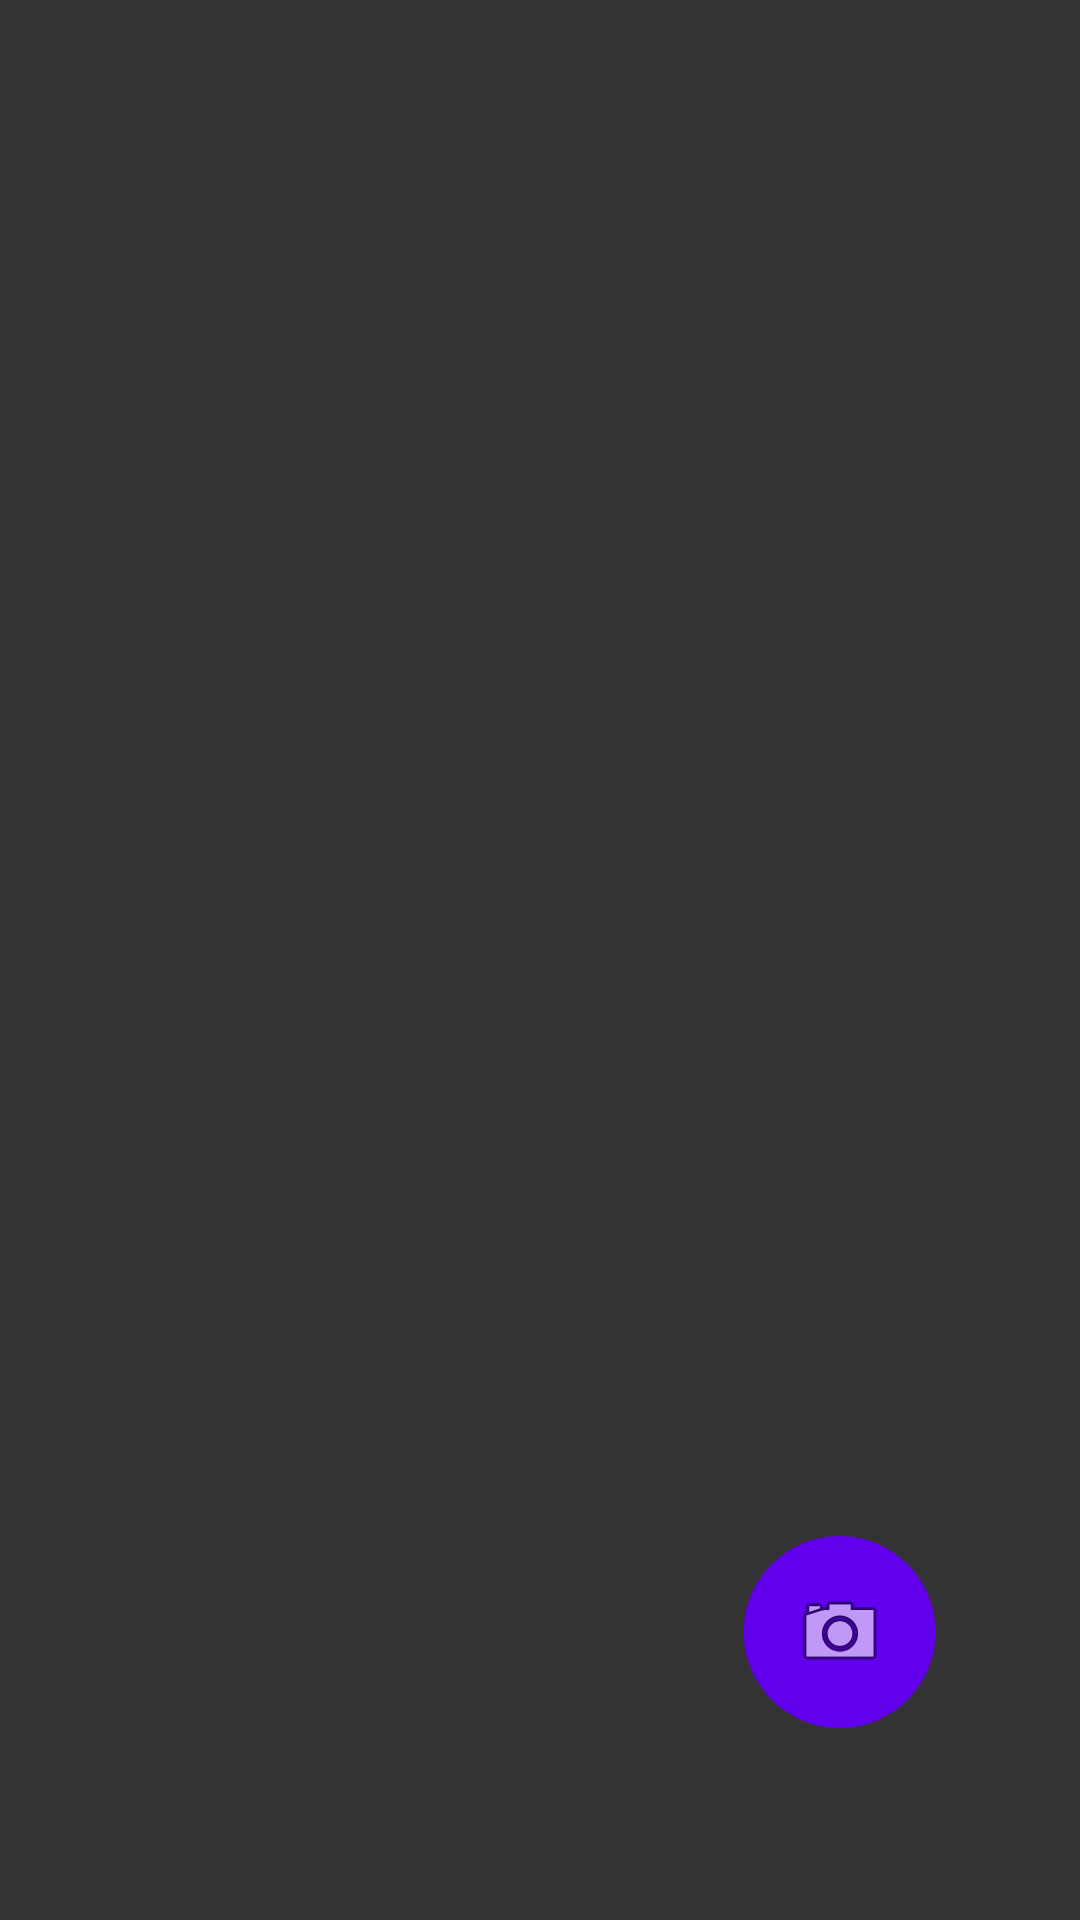

Where to tap for icons on this 1080 × 1920 app screen, as [x,y]:
camera: [840,1632]
